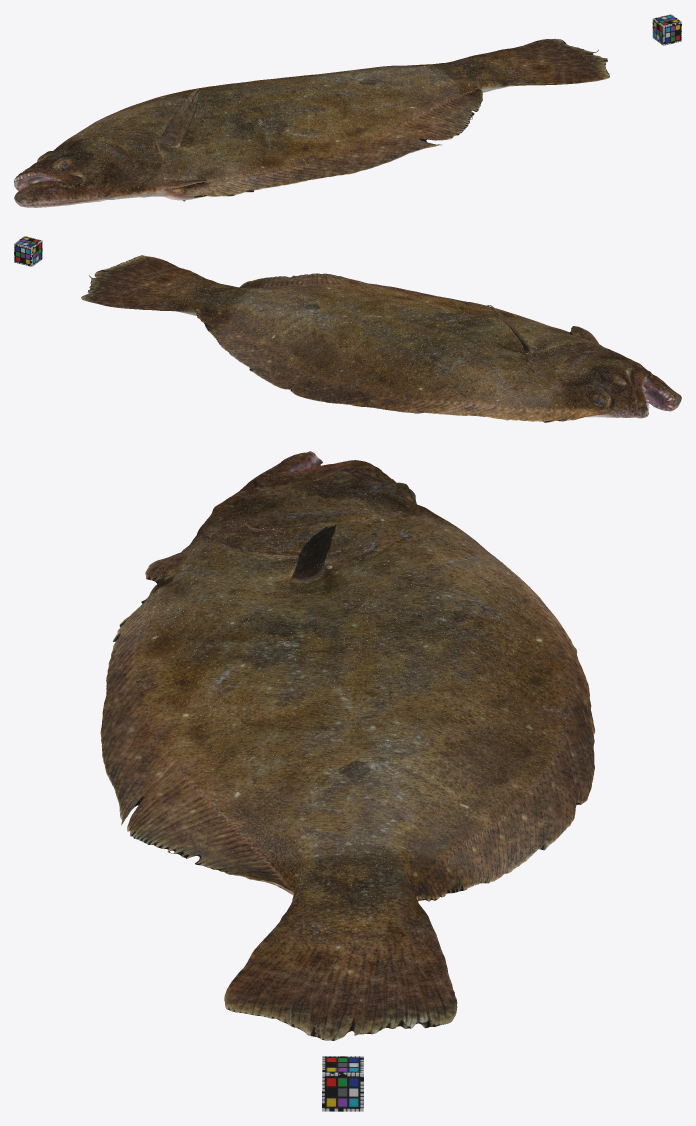
File: hirame.glb
The picture shows the model from 3 angles, top to bottom: view 1: azimuth 30°, elevation 25°; view 2: azimuth 150°, elevation 25°; view 3: azimuth 270°, elevation 25°; orthographic projection. The views are drawn at different scales.
Parts seen in each view (by area): view 1: Q11566-1all-1_5, Cube_2; view 2: Q11566-1all-1_5, Cube_2; view 3: Q11566-1all-1_5, Cube_2.
Boxes of the visible parts, x1,y1,x2,y2 form: Q11566-1all-1_5: (14, 38, 609, 207); Cube_2: (652, 14, 681, 45); Q11566-1all-1_5: (81, 255, 681, 422); Cube_2: (14, 236, 42, 266); Q11566-1all-1_5: (100, 451, 595, 1040); Cube_2: (322, 1056, 363, 1111).
Bounding box in the file's own units: 16.54 × 2.56 × 5.44.
3 materials, 3 textured.
